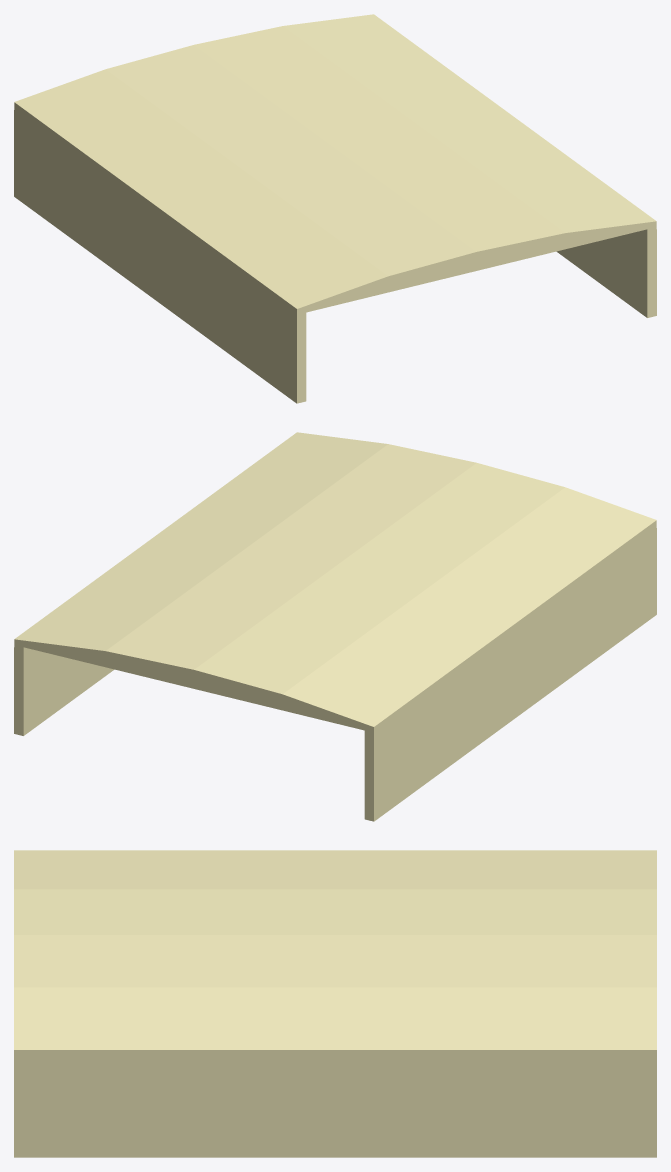
The model's file is Itr_Bed_Single_Blanket_02.FBX.
3 views of the same model, one above another, from view 1: azimuth 30°, elevation 25°; view 2: azimuth 150°, elevation 25°; view 3: azimuth 270°, elevation 25° (orthographic). The views are drawn at different scales.
Parts seen in each view (by area): view 1: Itr_Bed_Single_Blanket_02; view 2: Itr_Bed_Single_Blanket_02; view 3: Itr_Bed_Single_Blanket_02.
Boxes of the visible parts, x1,y1,x2,y2 form: Itr_Bed_Single_Blanket_02: (14, 14, 656, 403); Itr_Bed_Single_Blanket_02: (14, 432, 656, 821); Itr_Bed_Single_Blanket_02: (14, 850, 656, 1157).
Bounding box in the file's own units: 47.68 × 13.65 × 64.86.
